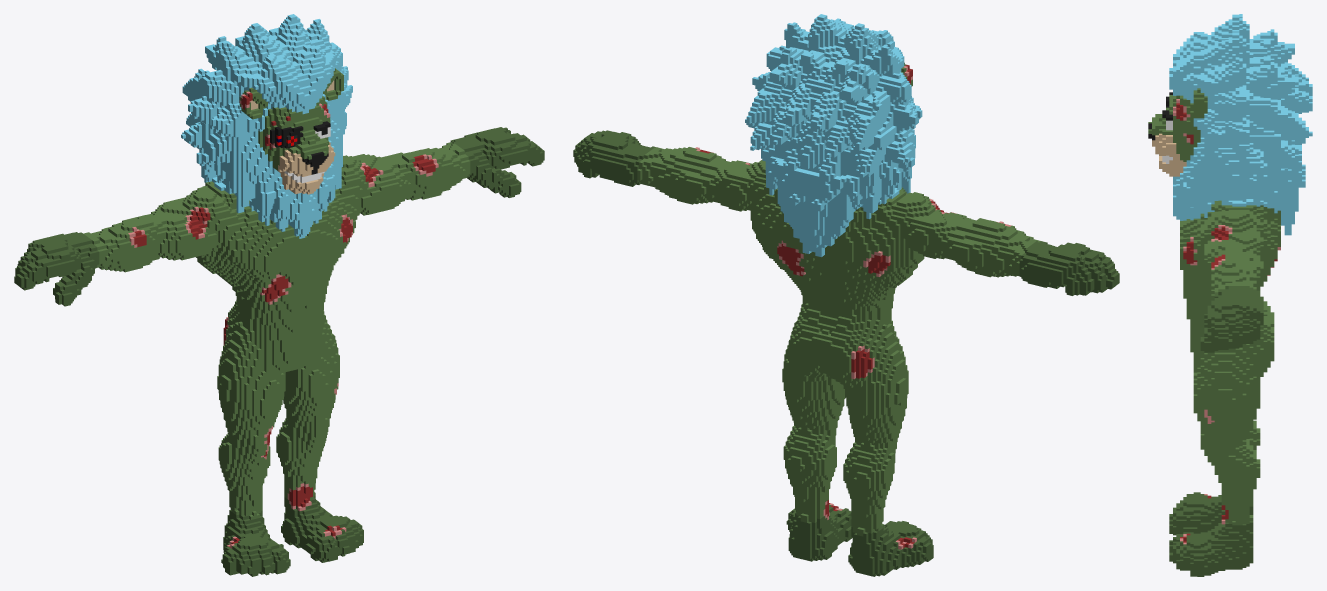
Rendered from 936-Bk_aJXE1.glb.
3 renders of one model, left to right at view 1: azimuth 30°, elevation 25°; view 2: azimuth 150°, elevation 25°; view 3: azimuth 270°, elevation 25°, orthographic. The views are drawn at different scales.
Visible parts, largest first — view 1: big_smile; view 2: big_smile; view 3: big_smile.
Part boxes in pixels (x1,y1,x2,y2): big_smile: (14, 14, 544, 576); big_smile: (573, 14, 1119, 576); big_smile: (1148, 14, 1312, 576).
Bounding box in the file's own units: 17.2 × 16.5 × 4.7.
4 materials, 4 textured.
